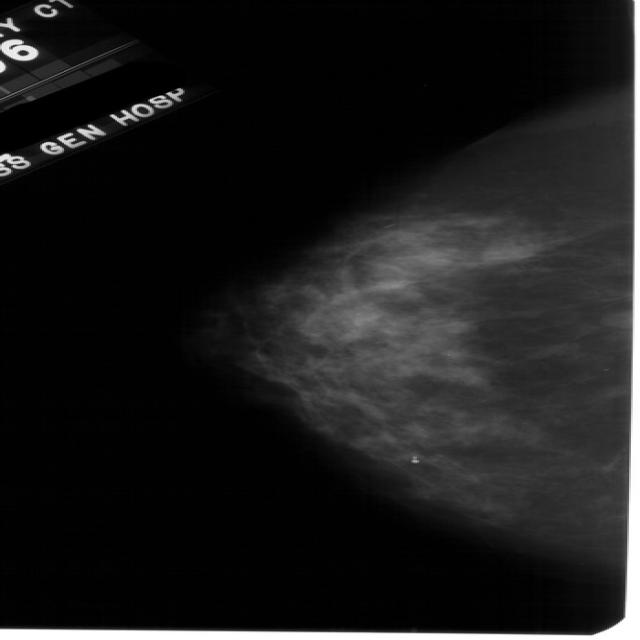tumour: (596, 309, 631, 328)
